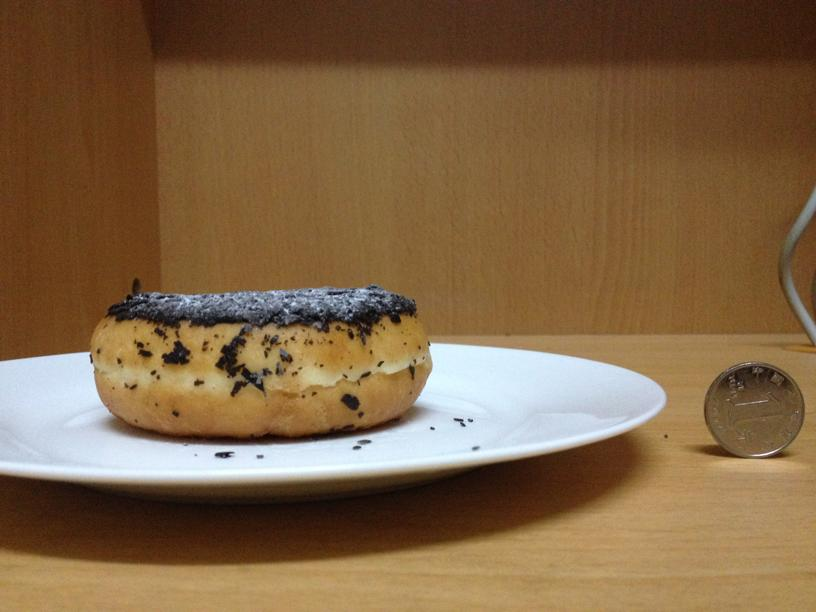coin: (703, 357, 805, 458)
doughnut: (92, 286, 432, 437)
